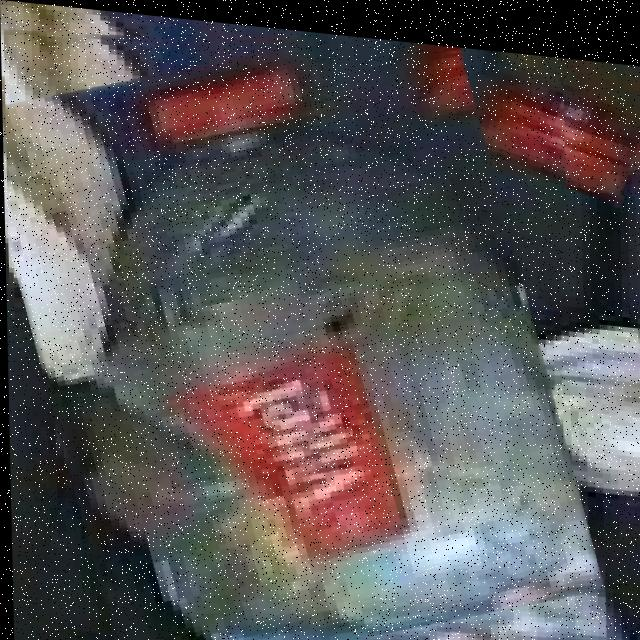litter: (3, 0, 574, 640), (441, 36, 640, 183)
